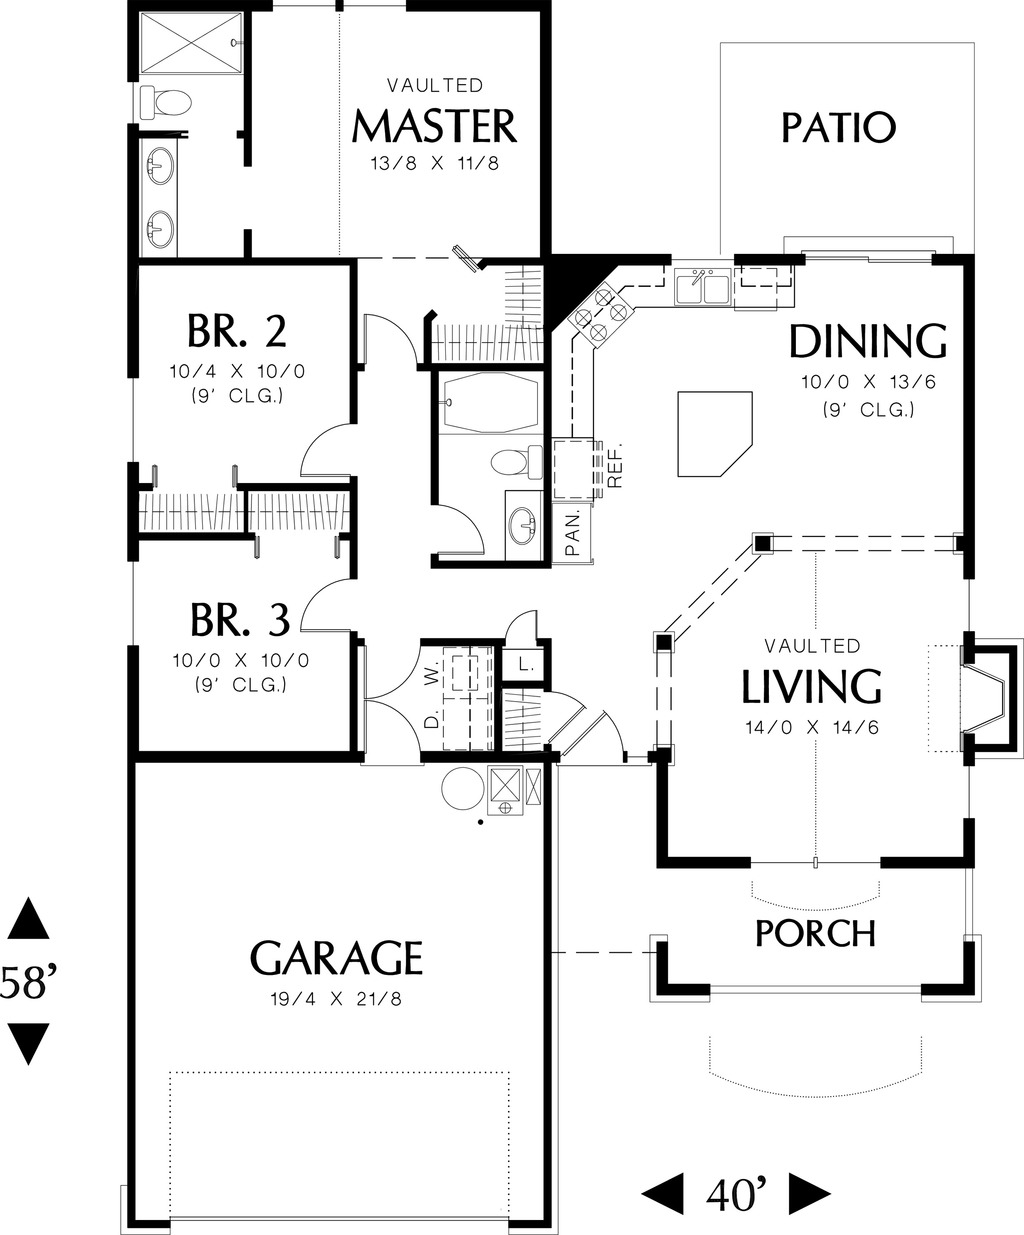door: (566, 710, 653, 764), (297, 416, 357, 485), (301, 575, 364, 637), (359, 312, 432, 360), (439, 504, 487, 558), (503, 597, 543, 647), (549, 693, 582, 749)
kitchen_bar: (553, 270, 668, 451)
large_sink: (126, 79, 207, 133), (489, 441, 539, 489)
small_sink: (499, 499, 541, 566), (137, 198, 189, 247), (137, 141, 178, 187)
tub: (443, 360, 551, 431)
twin_sink: (678, 264, 726, 303)
window: (797, 243, 932, 262)
